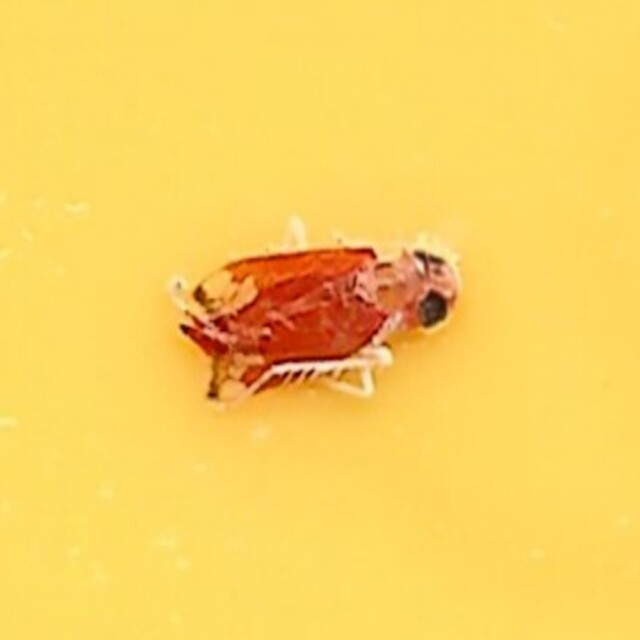Hemiptera: (177, 237, 463, 403)
